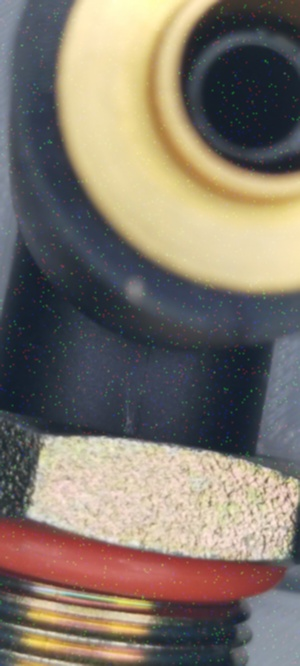joint line: (138, 344, 154, 404)
white mark: (119, 390, 136, 438)
